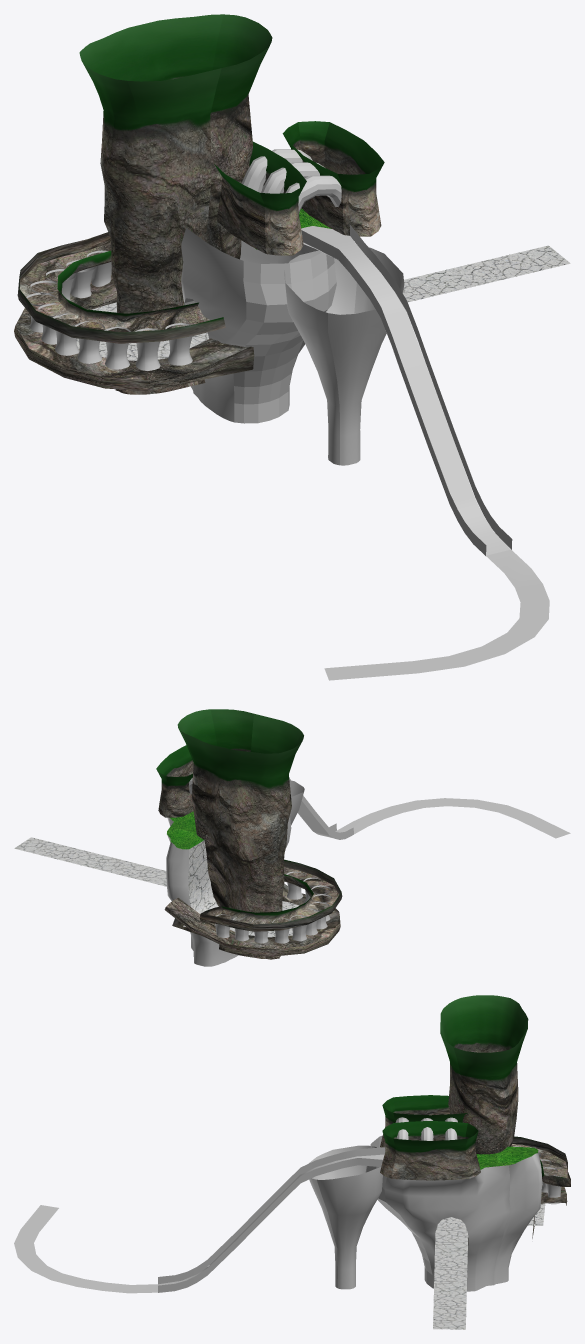
The model's file is mountains 2.fbx.
3 renders of one model, top to bottom at view 1: azimuth 30°, elevation 25°; view 2: azimuth 150°, elevation 25°; view 3: azimuth 270°, elevation 25°, orthographic. The views are drawn at different scales.
Visible parts, largest first — view 1: BigTop_moutain, BigBaseMountian, SideThin_Mountain, Curve_on_pilars, Road_Down, Curve_on_pilars_bottom, Wall_1, Wall_2, Road2Loop, pPlane2, SmallWall_1, SmallWall_2 (+2 smaller); view 2: BigTop_moutain, Curve_on_pilars, Curve_on_pilars_bottom, pPlane2, Road2Loop, BigBaseMountian, Wall_1, Ramp, pPlane1, Road_Down, SideThin_Mountain, SmallWall_1; view 3: BigBaseMountian, BigTop_moutain, SideThin_Mountain, Wall_1, pPlane2, Road2Loop, SmallWall_2, Wall_2, SmallWall_1, Curve_on_pilars, pPlane1, Road_Down.
Part boxes in pixels (<box>): BigTop_moutain: <box>79,14,272,394</box>; BigBaseMountian: <box>181,228,336,423</box>; SideThin_Mountain: <box>284,247,404,465</box>; Curve_on_pilars: <box>17,232,225,343</box>; Road_Down: <box>301,226,510,555</box>; Curve_on_pilars_bottom: <box>14,273,254,391</box>; Wall_1: <box>282,121,384,236</box>; Wall_2: <box>214,141,306,255</box>; Road2Loop: <box>324,549,549,680</box>; pPlane2: <box>76,245,570,360</box>; SmallWall_1: <box>301,230,486,555</box>; SmallWall_2: <box>349,224,512,549</box>; BigTop_moutain: <box>177,709,303,959</box>; Curve_on_pilars: <box>199,859,342,931</box>; Curve_on_pilars_bottom: <box>164,884,340,956</box>; pPlane2: <box>14,837,298,937</box>; Road2Loop: <box>337,798,570,838</box>; BigBaseMountian: <box>166,815,291,966</box>; Wall_1: <box>156,745,193,817</box>; Ramp: <box>188,840,218,913</box>; pPlane1: <box>167,811,203,849</box>; Road_Down: <box>298,801,342,838</box>; SideThin_Mountain: <box>289,780,304,825</box>; SmallWall_1: <box>289,778,353,839</box>; BigBaseMountian: <box>365,1135,542,1291</box>; BigTop_moutain: <box>440,995,528,1245</box>; SideThin_Mountain: <box>309,1145,382,1289</box>; Wall_1: <box>380,1121,480,1180</box>; pPlane2: <box>433,1203,545,1329</box>; Road2Loop: <box>14,1205,158,1293</box>; SmallWall_2: <box>158,1158,382,1292</box>; Wall_2: <box>380,1095,467,1147</box>; SmallWall_1: <box>158,1147,385,1284</box>; Curve_on_pilars: <box>511,1136,570,1186</box>; pPlane1: <box>476,1146,538,1169</box>; Road_Down: <box>158,1154,384,1285</box>.
Size of the model in its own units: 50.5 by 32 by 67.34.
